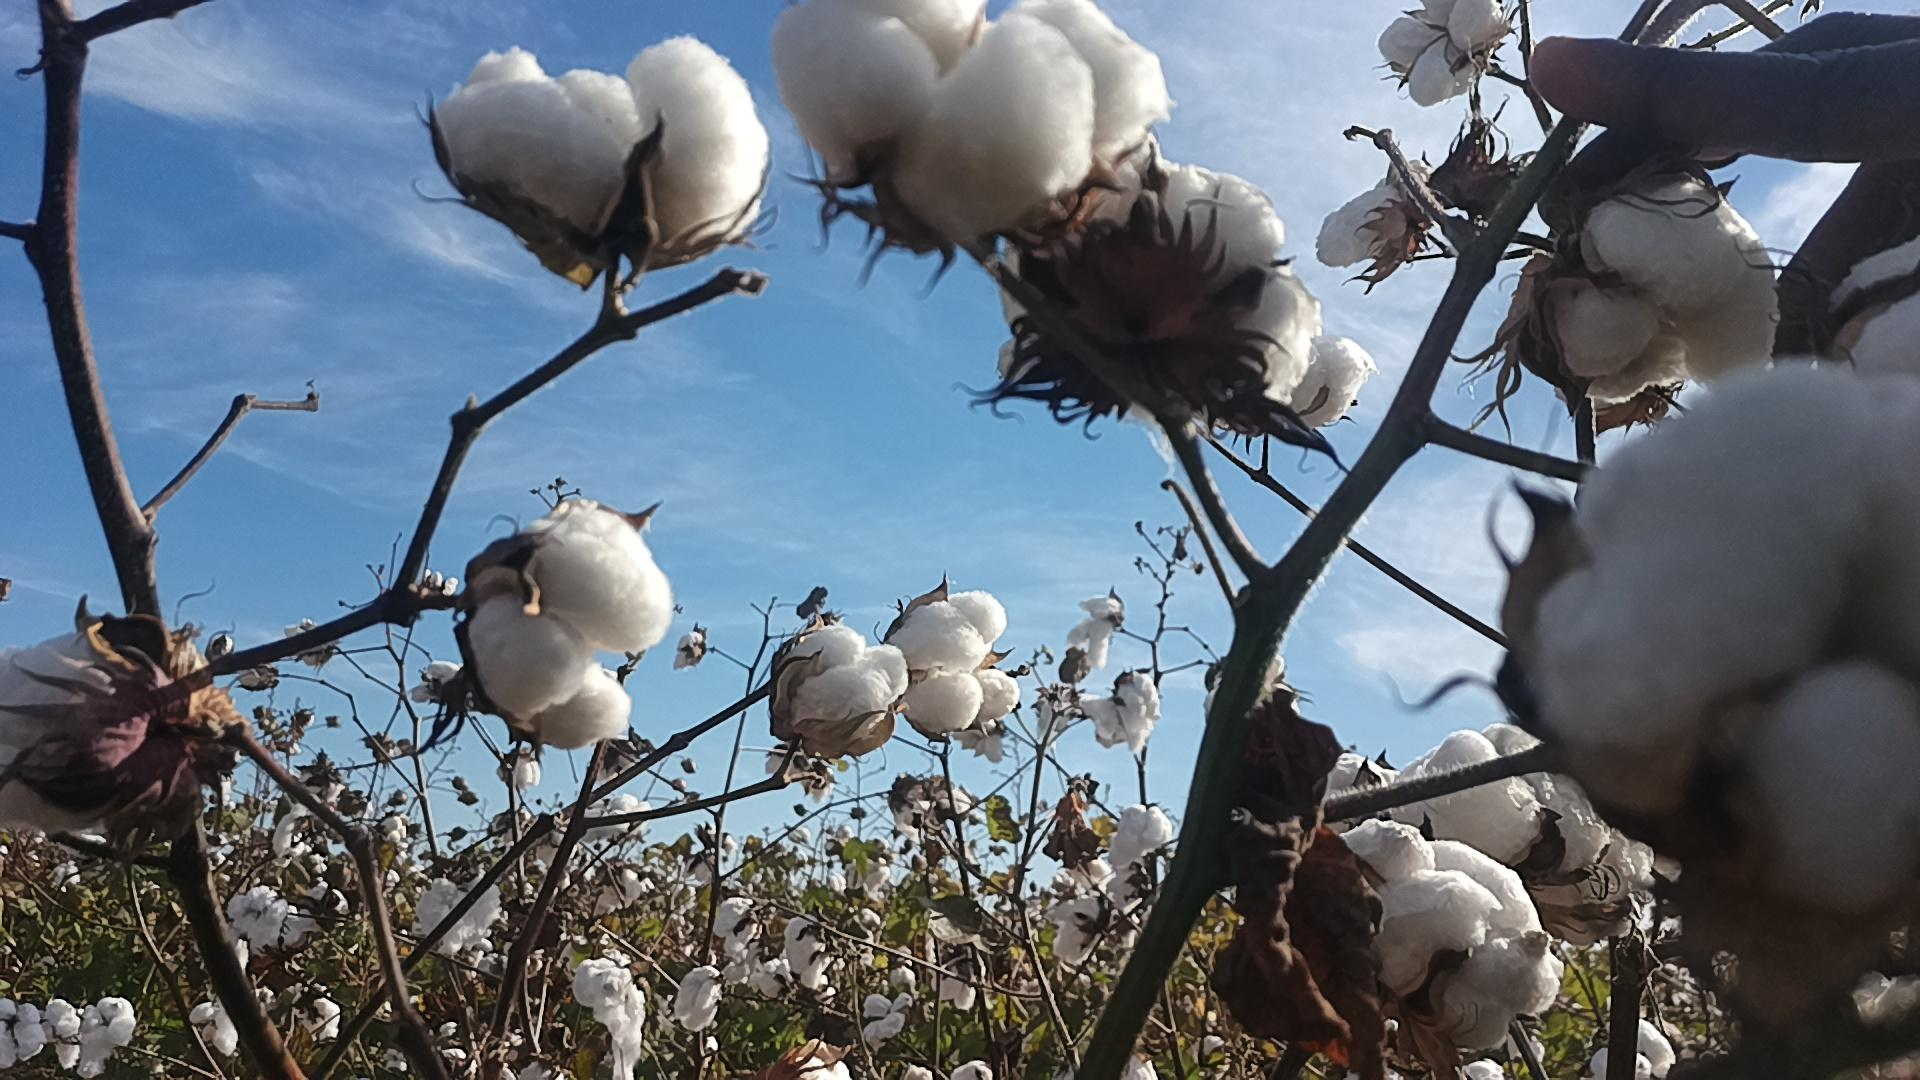cotton_ready: (1528, 363, 1920, 907), (1004, 141, 1373, 435), (778, 0, 1178, 236), (426, 47, 770, 272), (1516, 177, 1782, 400), (1338, 820, 1566, 1054), (458, 505, 672, 749), (0, 623, 218, 837), (1390, 720, 1604, 879), (889, 590, 1020, 735), (770, 618, 908, 755), (1816, 236, 1920, 381), (1532, 835, 1662, 950), (1378, 0, 1510, 106), (1318, 173, 1430, 268), (571, 953, 651, 1080), (1324, 747, 1399, 840), (1108, 807, 1172, 900), (1085, 677, 1160, 754), (1069, 597, 1122, 673)
